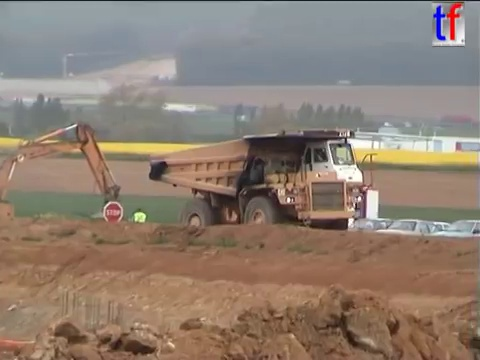excavator: (1, 118, 125, 241)
truck: (146, 127, 380, 247)
worker: (131, 206, 148, 239)
